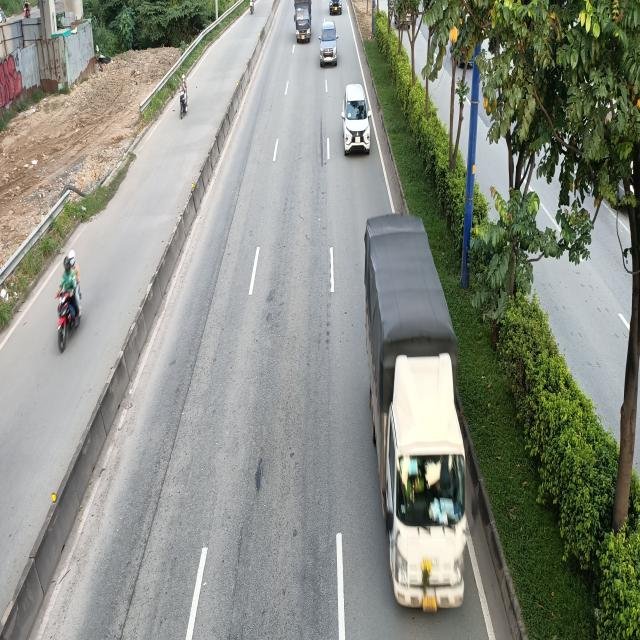car: (341, 85, 372, 156), (318, 20, 338, 66)
truck: (361, 215, 476, 614), (294, 0, 314, 43)
